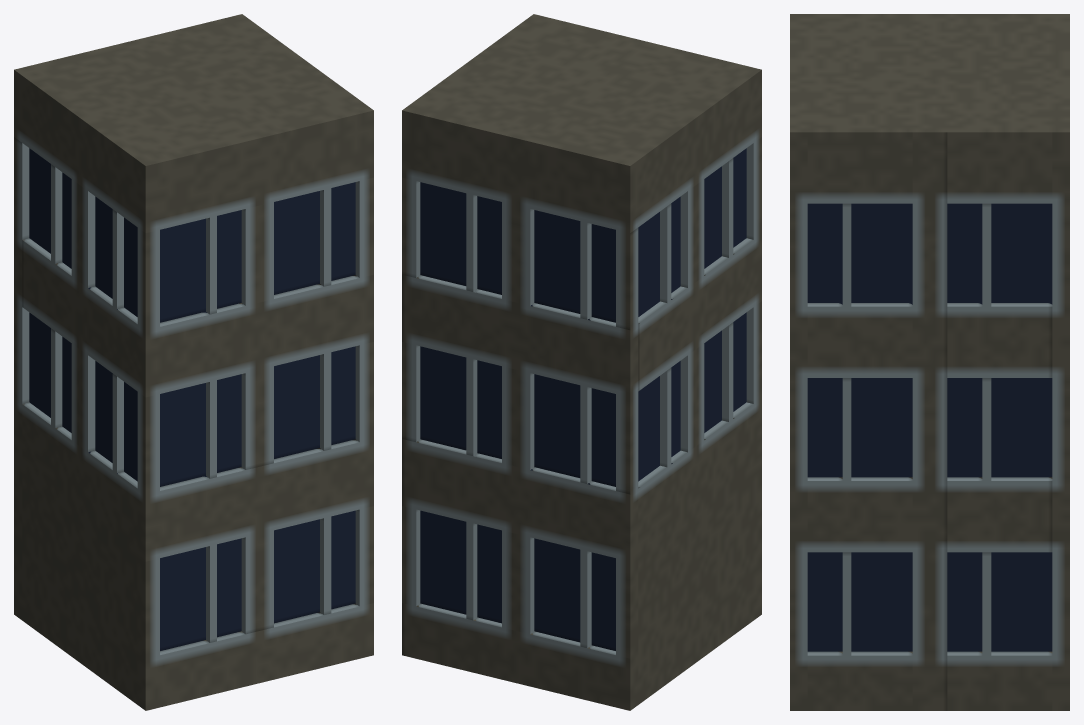
File: budynek_uni2_2.dae
3 views of the same model, side by side, from view 1: azimuth 30°, elevation 25°; view 2: azimuth 150°, elevation 25°; view 3: azimuth 270°, elevation 25° (orthographic). The views are drawn at different scales.
Visible parts, largest first — view 1: Content; view 2: Content; view 3: Content.
Part boxes in pixels (x1=…): Content: x1=14, y1=14, x2=373, y2=710; Content: x1=402, y1=14, x2=761, y2=710; Content: x1=790, y1=14, x2=1069, y2=710.
Size of the model in its own units: 32 by 73 by 32.
1 material, 1 textured.
